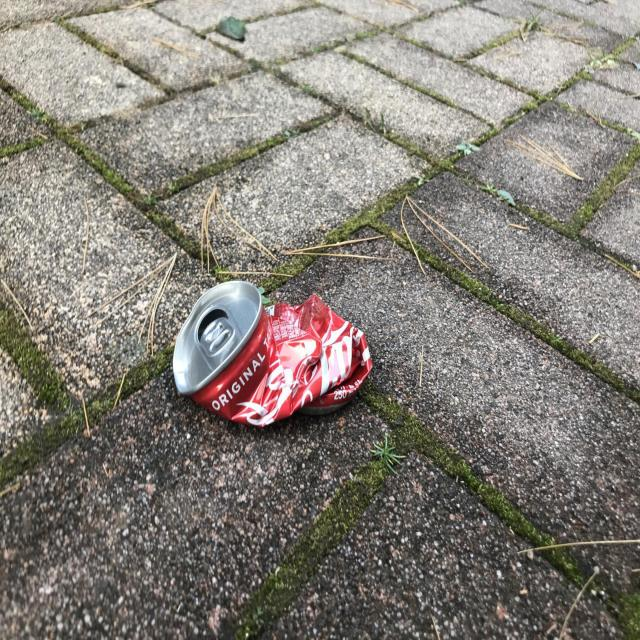can: (173, 280, 372, 427)
